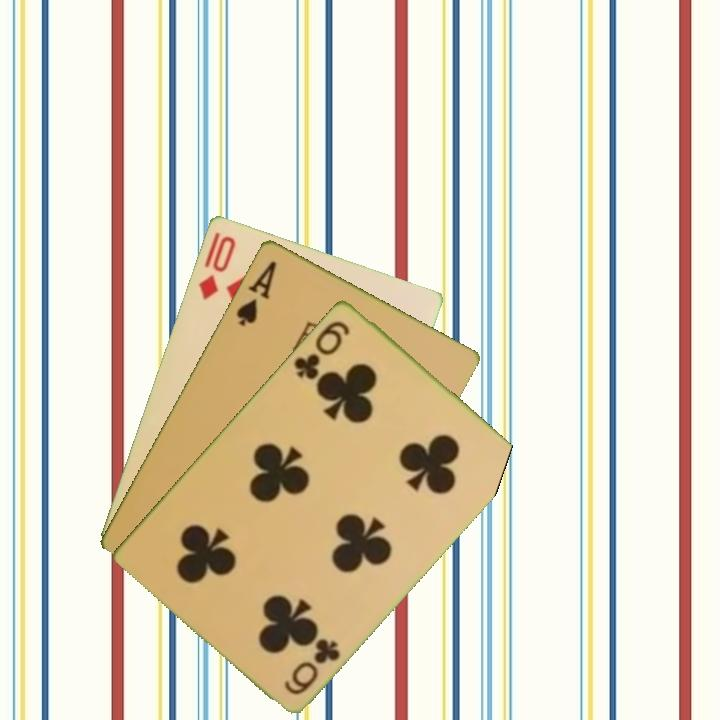10d: (194, 231, 239, 302)
6c: (290, 316, 353, 382), (280, 634, 344, 697)
As: (232, 256, 280, 329)
